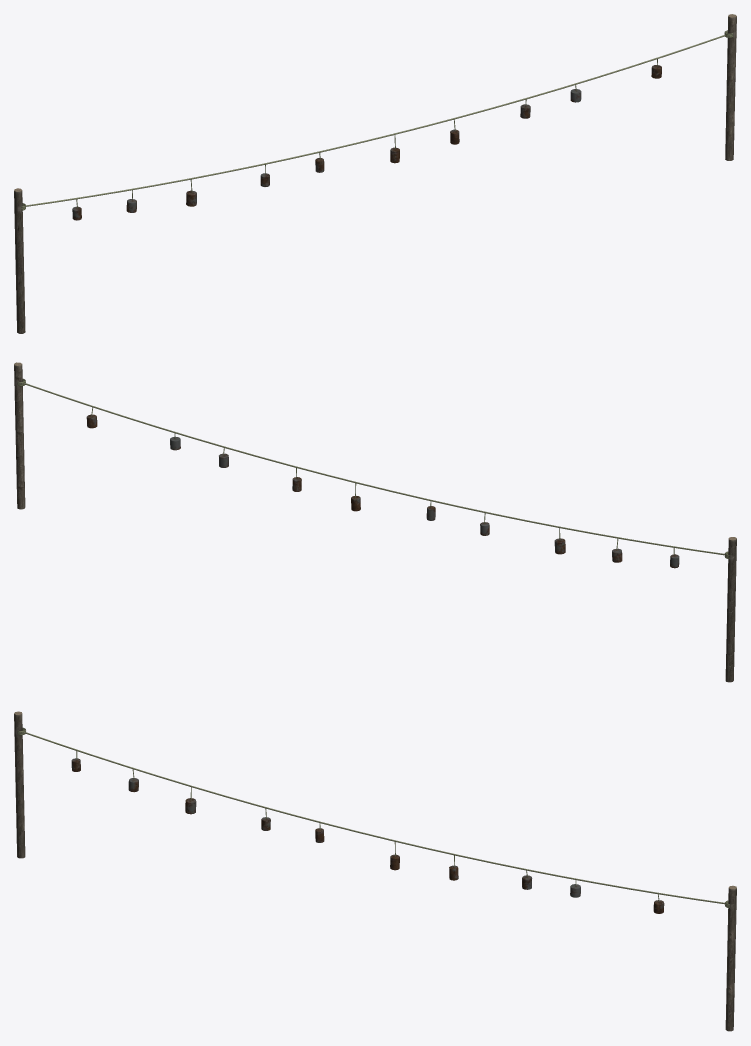
File: canline.glb
The picture shows the model from 3 angles, top to bottom: view 1: azimuth 30°, elevation 25°; view 2: azimuth 150°, elevation 25°; view 3: azimuth 330°, elevation 25°; orthographic projection.
Parts seen in each view (by area): view 1: canline; view 2: canline; view 3: canline.
Part boxes in pixels (x1=…): canline: x1=14, y1=14, x2=736, y2=333; canline: x1=14, y1=362, x2=736, y2=682; canline: x1=14, y1=711, x2=736, y2=1031.
Size of the model in its own units: 6.93 by 1.31 by 0.1121.
1 material, 1 textured.
